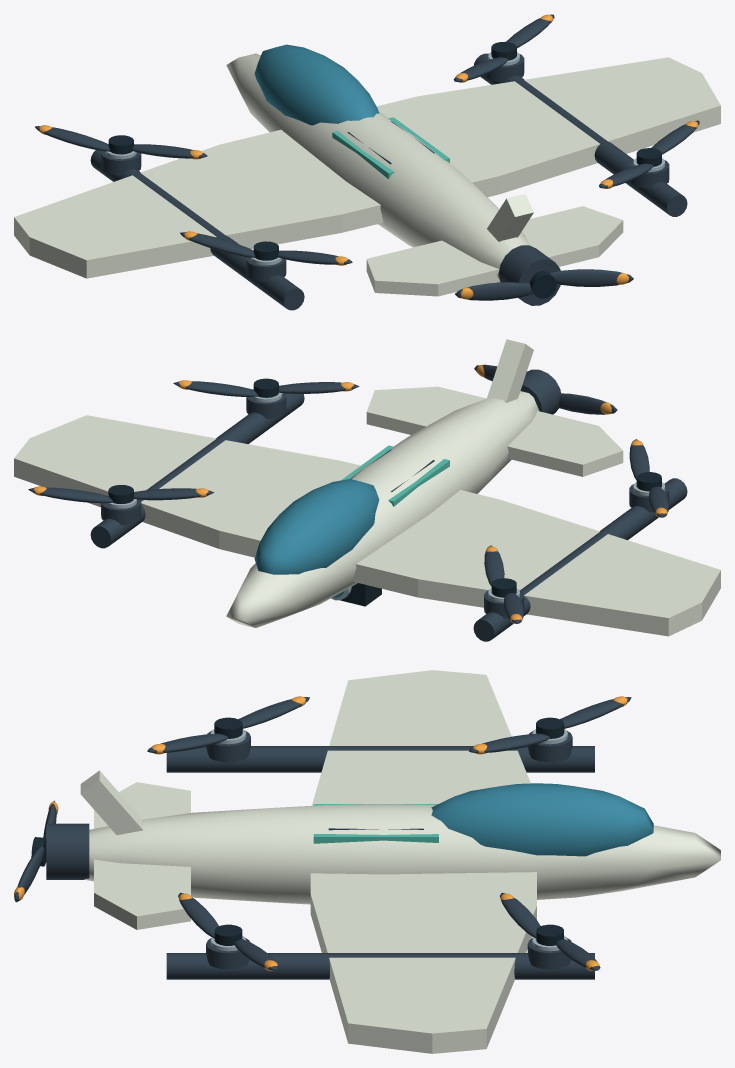
The model's file is class-vtol.glb.
The picture shows the model from 3 angles, top to bottom: view 1: azimuth 30°, elevation 25°; view 2: azimuth 150°, elevation 25°; view 3: azimuth 270°, elevation 25°; orthographic projection. The views are drawn at different scales.
Parts seen in each view (by area): view 1: part-wing-2, part-frame-1, part-propeller-12, part-propeller-4, part-propeller-8, part-motor-11, part-propeller-6, part-propeller-10, part-battery-13, part-motor-7, part-motor-3, part-motor-9 (+1 smaller); view 2: part-wing-2, part-frame-1, part-propeller-6, part-propeller-10, part-propeller-8, part-propeller-4, part-motor-11, part-propeller-12, part-battery-13, part-motor-5, part-motor-9, part-payload-15 (+2 smaller); view 3: part-wing-2, part-frame-1, part-motor-11, part-propeller-8, part-propeller-4, part-propeller-10, part-propeller-6, part-battery-13, part-propeller-12, part-motor-3, part-motor-7, part-motor-5 (+1 smaller).
Part boxes in pixels (x1,y1,x2,y2): part-wing-2: (14,57,720,296); part-frame-1: (90,44,687,310); part-propeller-12: (455,269,633,300); part-propeller-4: (35,125,207,159); part-propeller-8: (180,231,352,265); part-motor-11: (499,245,560,305); part-propeller-6: (453,14,554,82); part-propeller-10: (599,120,699,188); part-battery-13: (332,117,449,179); part-motor-7: (246,257,286,281); part-motor-3: (101,151,141,175); part-motor-9: (629,158,669,188); part-wing-2: (14,339,720,636); part-frame-1: (90,391,687,641); part-propeller-6: (28,485,214,503); part-propeller-10: (173,378,359,397); part-propeller-8: (629,439,668,517); part-propeller-4: (484,545,523,623); part-motor-11: (520,369,560,414); part-propeller-12: (474,364,617,414); part-battery-13: (341,445,449,506); part-motor-5: (101,495,141,525); part-motor-9: (246,389,286,418); part-payload-15: (331,583,381,606); part-wing-2: (80,670,536,1053); part-frame-1: (84,746,720,979); part-motor-11: (46,823,89,879); part-propeller-8: (147,696,309,754); part-propeller-4: (469,696,631,754); part-propeller-10: (178,892,278,970); part-propeller-6: (500,893,600,970); part-battery-13: (313,804,438,843); part-propeller-12: (14,800,58,902); part-motor-3: (527,729,572,762); part-motor-7: (206,729,250,762); part-motor-5: (527,936,571,969).
Bounding box in the file's own units: 4.6 × 0.8385 × 3.78.
